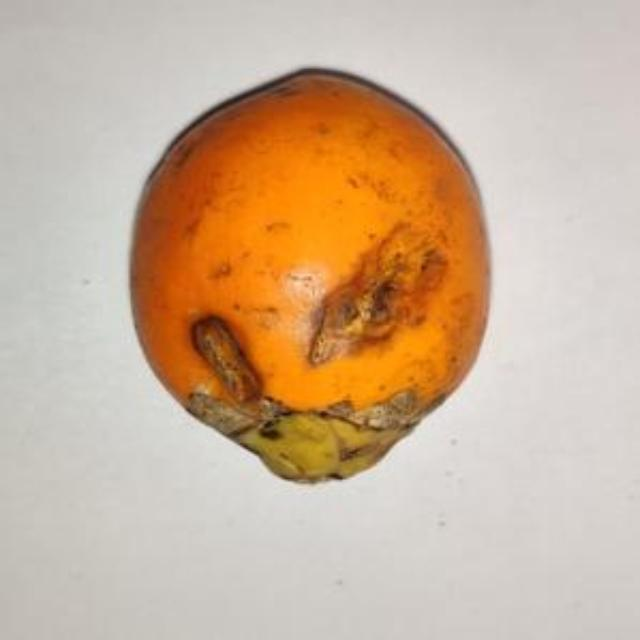good: (128, 71, 492, 486)
